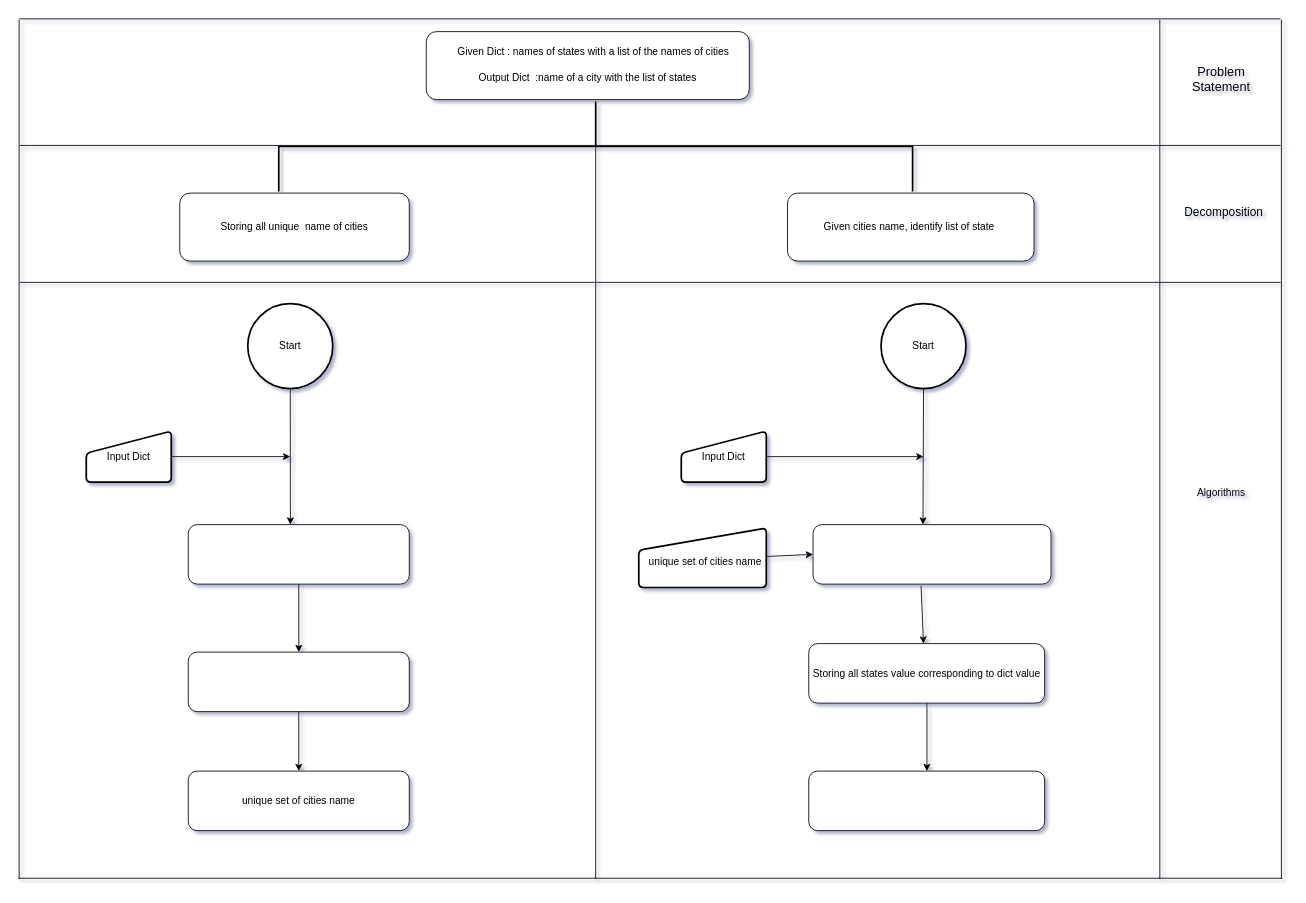
The diagram is 1306 pixels wide and 903 high, and some of its shapes have lost their labels. Each missing label, with the centre of its shape:
Eliminate duplicate value from list: the point at 298,681
Extract dict value and store into new list: the point at 298,554
Identify dict value for given cities name: the point at 931,554
Storing cities name with list of State as dict: the point at 926,800
